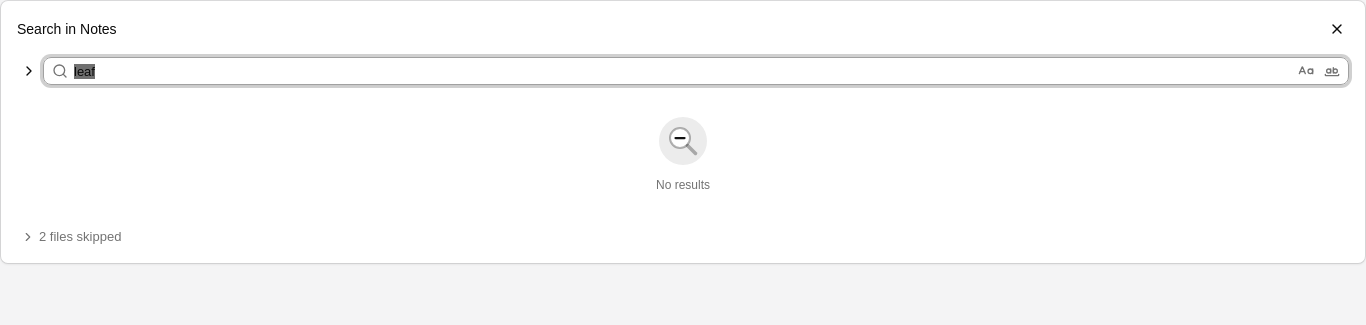
folder search panel › says when nothing matched and names the files it skipped
Check: the text with test id "folder-search-status" reads "No results", box [656,178,710,192]
Click the button "2 files skipped" at (71, 237), box [21,227,121,247]
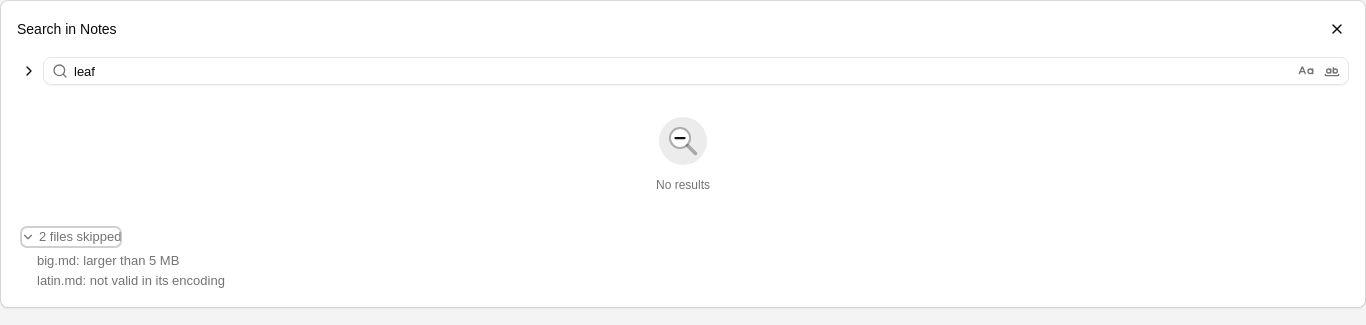
Check: the list with test id "folder-search-skipped" shows "big.md: larger than 5 MB"
Check: the list with test id "folder-search-skipped" shows "latin.md: not valid in its encoding", box [37,273,225,288]
Hover over the list item "big.md: larger than 5 MB" at (108, 260), box [37,253,179,268]
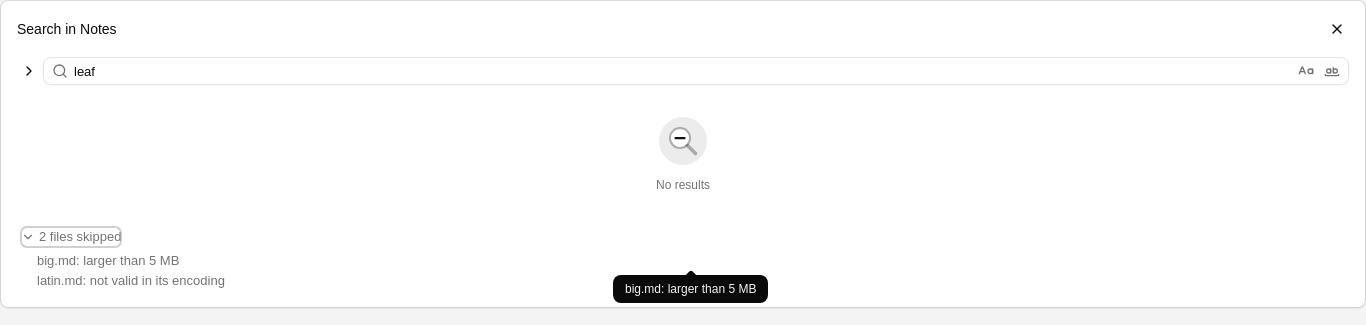
Check: the element showing "big.md: larger than 5 MB" is shown, box [613,275,768,303]
